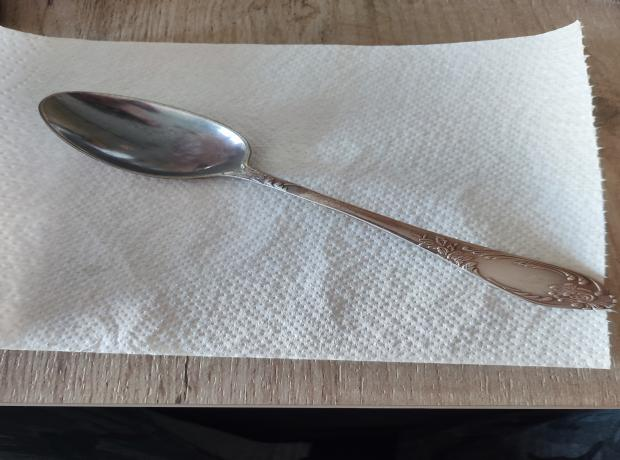metal: (39, 89, 618, 311)
